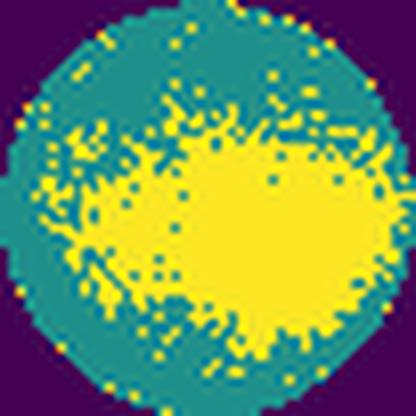Loc: (36, 108, 412, 356)
